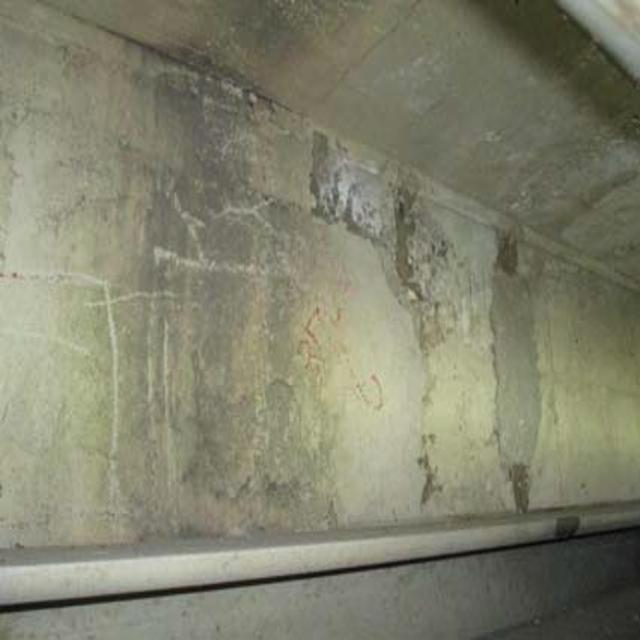spalling: (317, 146, 517, 344)
